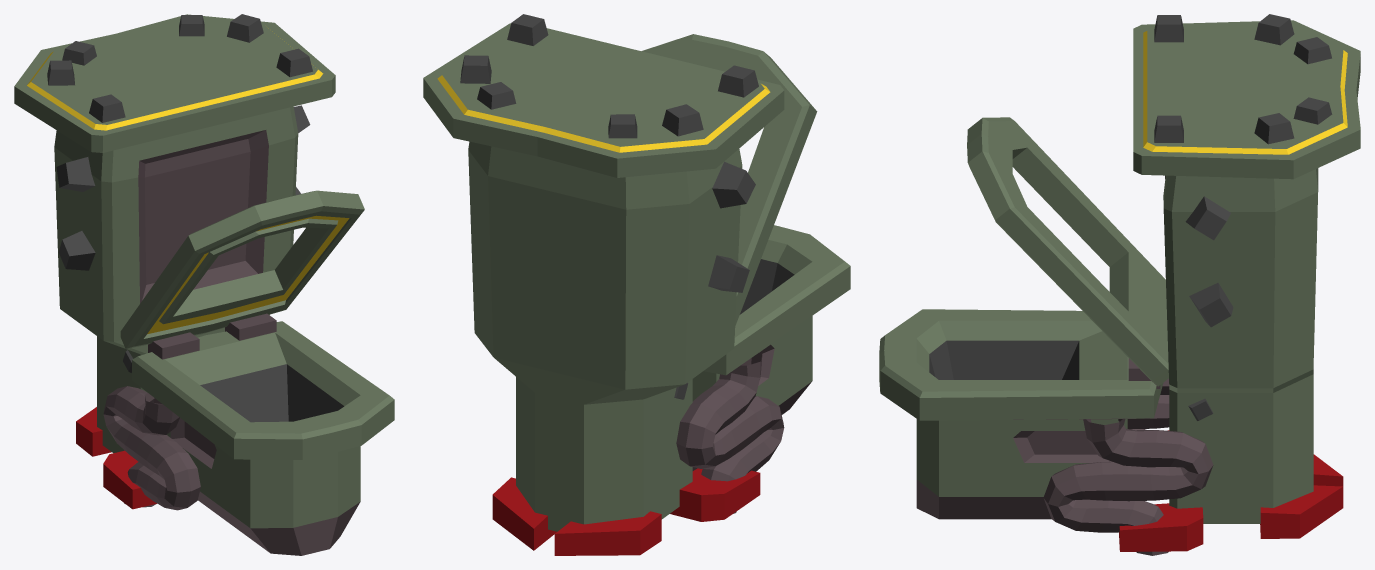
The model's file is toilet.fbx.
3 views of the same model, side by side, from view 1: azimuth 30°, elevation 25°; view 2: azimuth 150°, elevation 25°; view 3: azimuth 270°, elevation 25° (orthographic). The views are drawn at different scales.
Parts seen in each view (by area): view 1: toilet_base, toilet_lid; view 2: toilet_base, toilet_lid; view 3: toilet_base, toilet_lid.
Part boxes in pixels (x1,y1,x2,y2): toilet_base: [14, 14, 394, 555]; toilet_lid: [120, 190, 364, 348]; toilet_base: [423, 14, 850, 555]; toilet_lid: [641, 34, 817, 325]; toilet_base: [879, 14, 1360, 555]; toilet_lid: [967, 117, 1168, 386].
Bounding box in the file's own units: 4.59 × 6.74 × 6.67.
